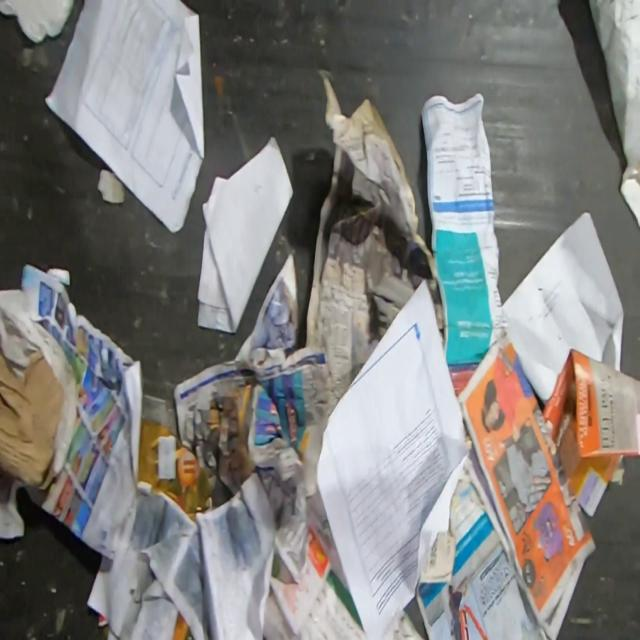cardboard: (0, 341, 64, 492)
soft_plastic: (137, 419, 212, 524), (170, 612, 194, 640), (98, 611, 110, 639)
